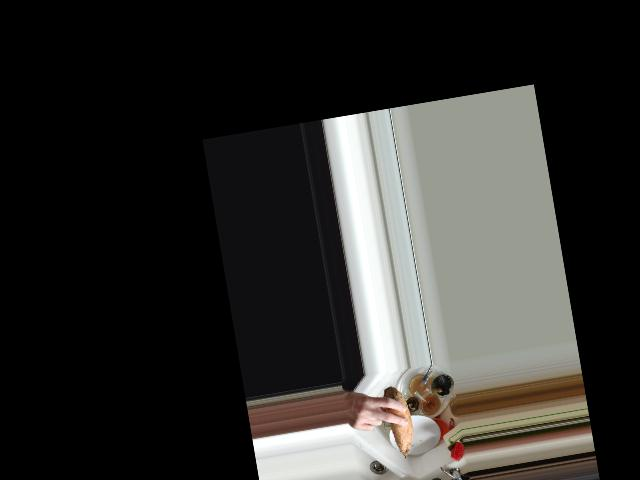sweet_potato: (378, 381, 417, 463)
